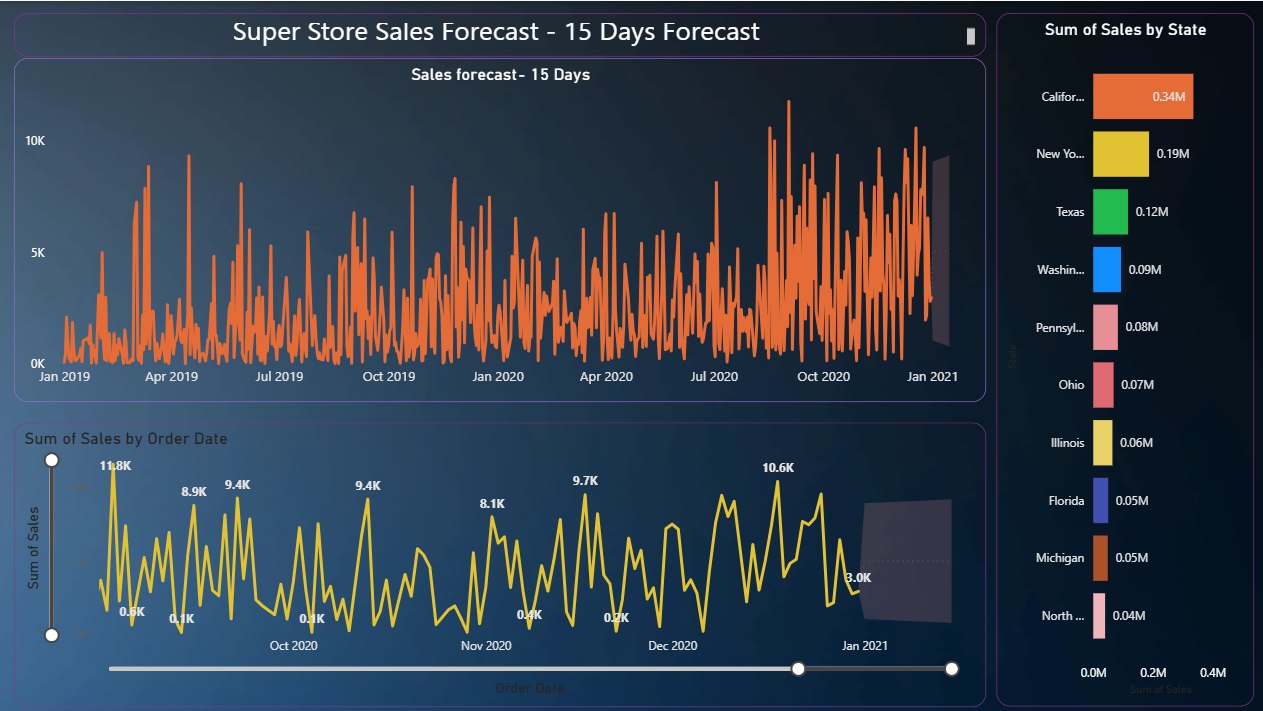

The page's visual inventory and layout, read from the dashboard file:
{"tool":"powerbi","page":{"name":"Forcasting","canvas":[1280,720],"ordinal":1},"visuals":[{"type":"lineChart","title":"Sales forecast- 15 Days","fields":{"Y":["Sum(Sheet1.Sales)"],"Category":["Sheet1.Order Date"]},"box":[15.7,57.1,981.4,347.1],"z":0},{"type":"lineChart","fields":{"Y":["Sum(Sheet1.Sales)"],"Category":["Sheet1.Order Date"]},"box":[15.7,425.7,981.4,287.1],"z":1000},{"type":"clusteredBarChart","fields":{"Category":["Sheet1.State"],"Y":["Sum(Sheet1.Sales)"]},"box":[1007.1,12.9,260,700],"z":2000},{"type":"textbox","box":[15.7,12.9,981.4,44.3],"z":3000}]}

Visuals, with their boxes in screenshot pixels (x1, y1, x2, y2), scaled from the page's 1280x720 canvas onto the 1263x711 screenshot:
"Sales forecast- 15 Days" lineChart: bbox=(15, 56, 984, 399)
lineChart - Sum(Sheet1.Sales) x Sheet1.Order Date: bbox=(15, 420, 984, 704)
clusteredBarChart - Sheet1.State x Sum(Sheet1.Sales): bbox=(994, 13, 1250, 704)
textbox: bbox=(15, 13, 984, 56)
